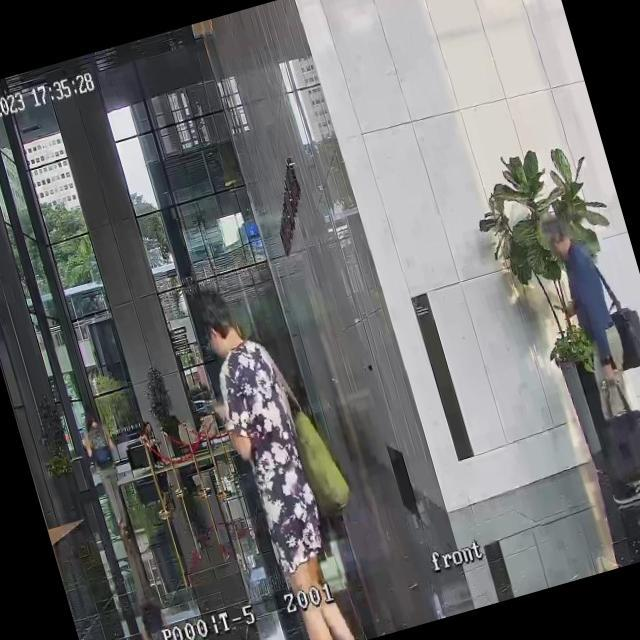person: (167, 274, 362, 640), (536, 202, 640, 422), (76, 408, 138, 539), (135, 414, 172, 471)
